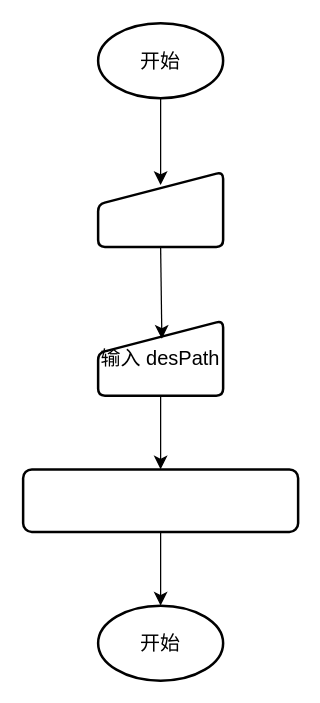
The diagram is 320 pixels wide and 703 high, and some of its shapes have lost their labels. The centre of each missing label's shape, as x and y in pixels:
"HuffmanCode.decompress()" belongs at (160,500).
"输入 srcPath" belongs at (160,209).
